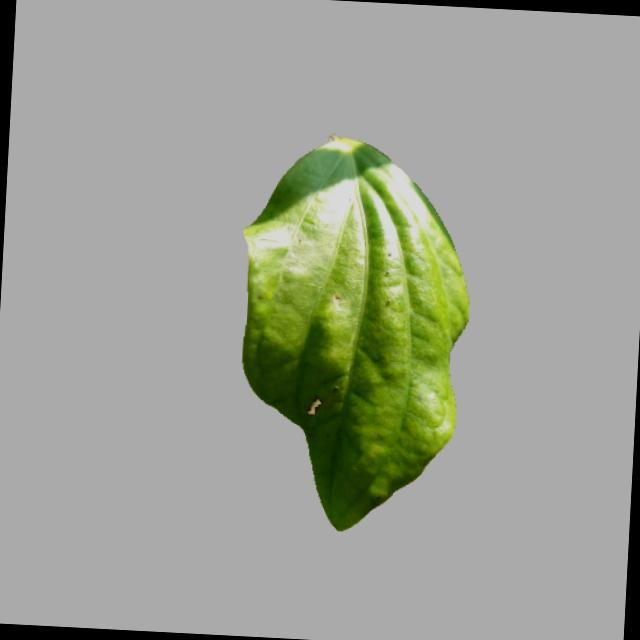yellow-mottle-virus: (225, 130, 490, 532)
